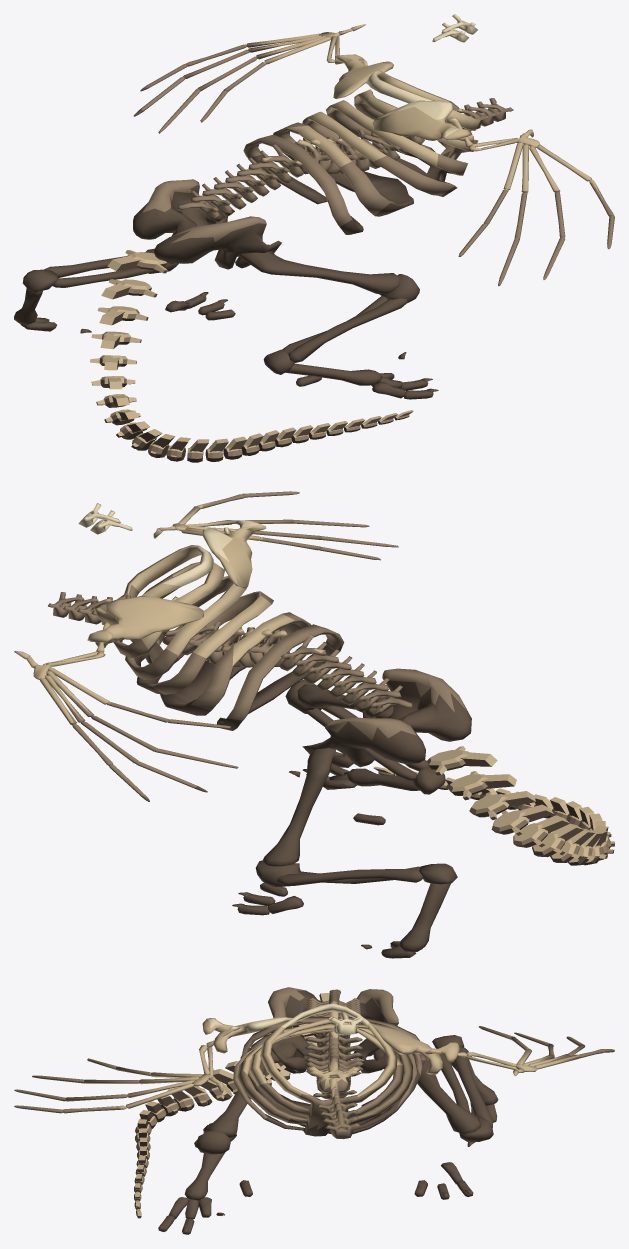
Rendered from dragon_bones.glb.
The picture shows the model from 3 angles, top to bottom: view 1: azimuth 30°, elevation 25°; view 2: azimuth 150°, elevation 25°; view 3: azimuth 270°, elevation 25°; orthographic projection. The views are drawn at different scales.
Parts seen in each view (by area): view 1: dragon_bones; view 2: dragon_bones; view 3: dragon_bones.
Boxes of the visible parts, left/top/right/bottom form: dragon_bones: left=14, top=14, right=614, bottom=462; dragon_bones: left=14, top=491, right=614, bottom=958; dragon_bones: left=14, top=987, right=614, bottom=1234.
Bounding box in the file's own units: 2.23 × 1.34 × 2.6.
